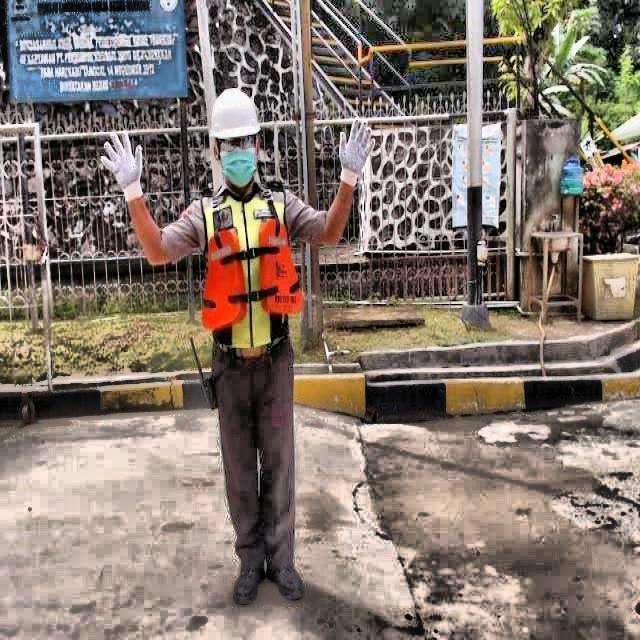safety_helmet: (207, 87, 262, 142)
safety_jacket: (200, 189, 305, 359)
